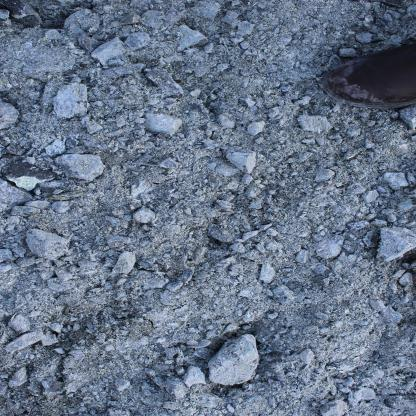stone: (206, 334, 262, 385), (370, 228, 416, 263), (25, 228, 74, 260), (55, 154, 106, 182), (52, 82, 88, 121), (89, 36, 132, 67), (0, 330, 49, 355), (142, 112, 184, 137), (175, 24, 210, 53), (226, 150, 257, 175), (315, 234, 344, 259), (110, 250, 136, 275), (182, 365, 208, 389), (133, 205, 157, 223), (312, 168, 336, 181), (300, 348, 317, 365), (0, 263, 11, 273)
